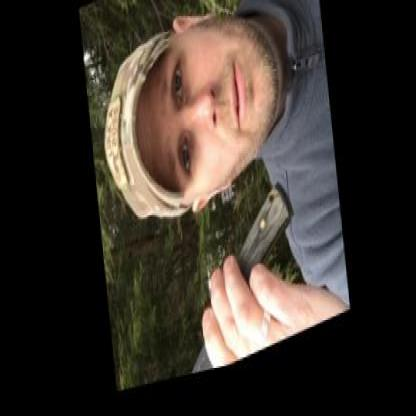knife: (121, 252, 256, 393)
